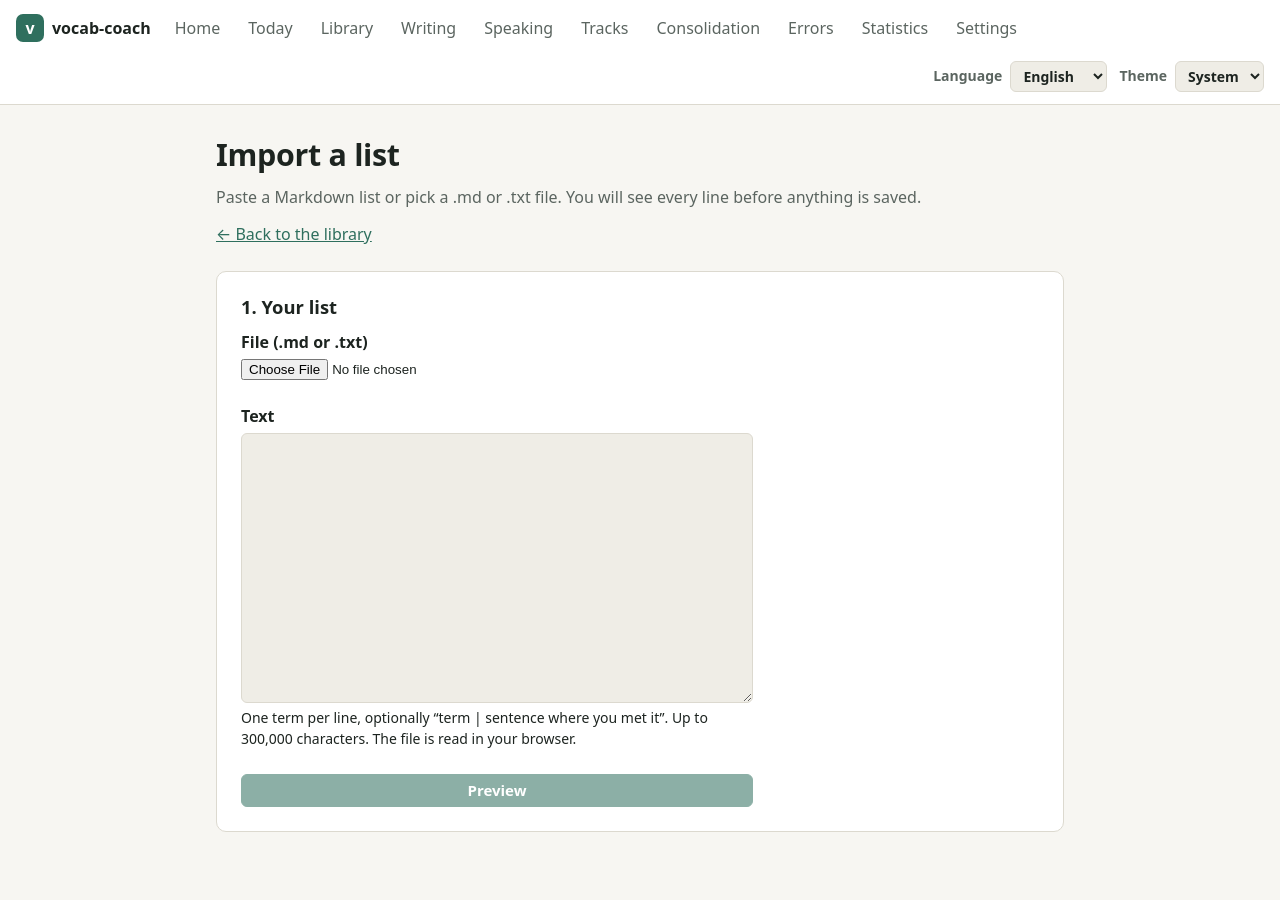
Test: import page › previews the text: header, counts, translated problems, ambiguous rows left out
Step 1. Type "- sampling frame" into the text box labelled "Text" → {"x": 497, "y": 568}, box [241,432,753,703]
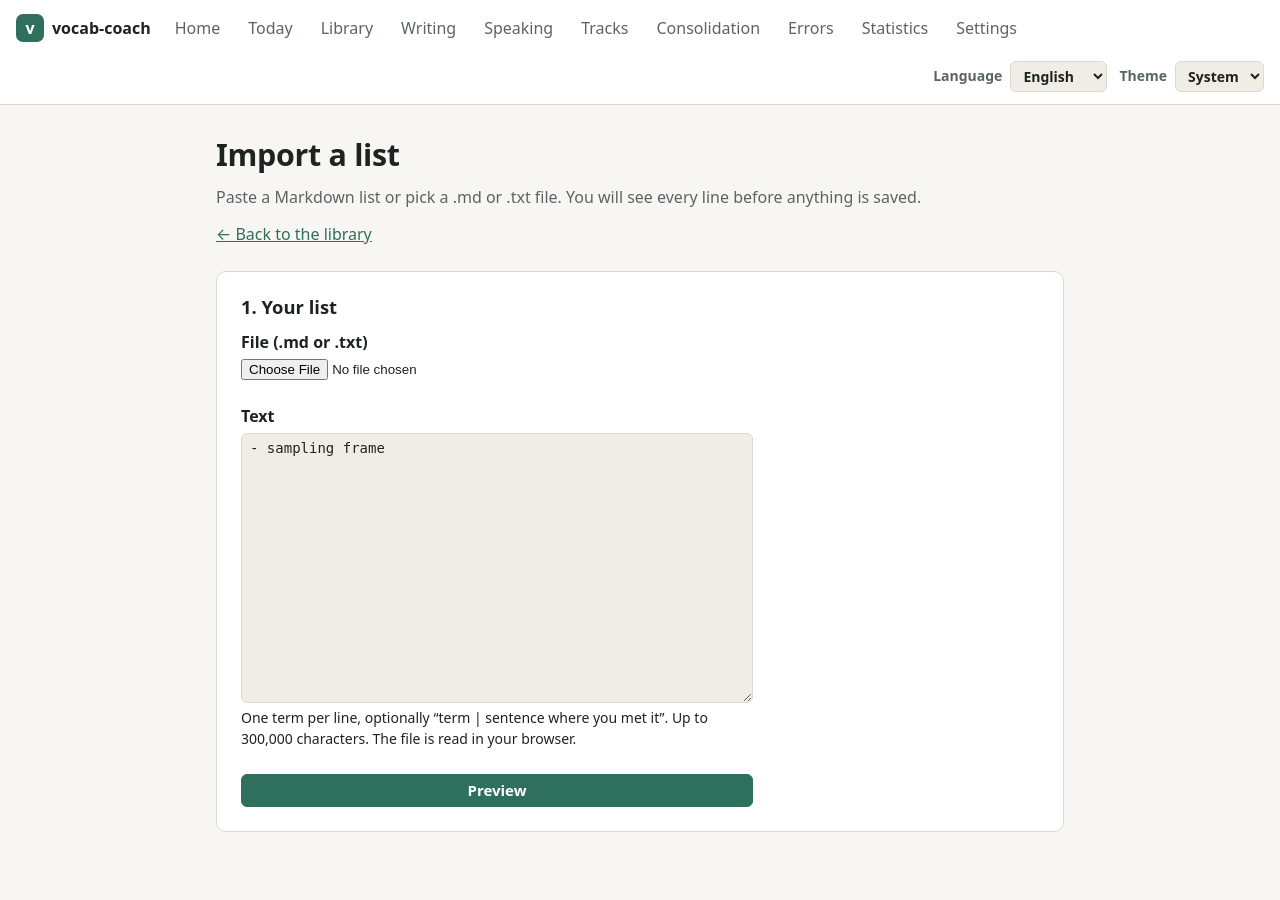
Step 2. Click the button "Preview" → {"x": 497, "y": 791}, box [241,774,753,808]
(page scrolled)
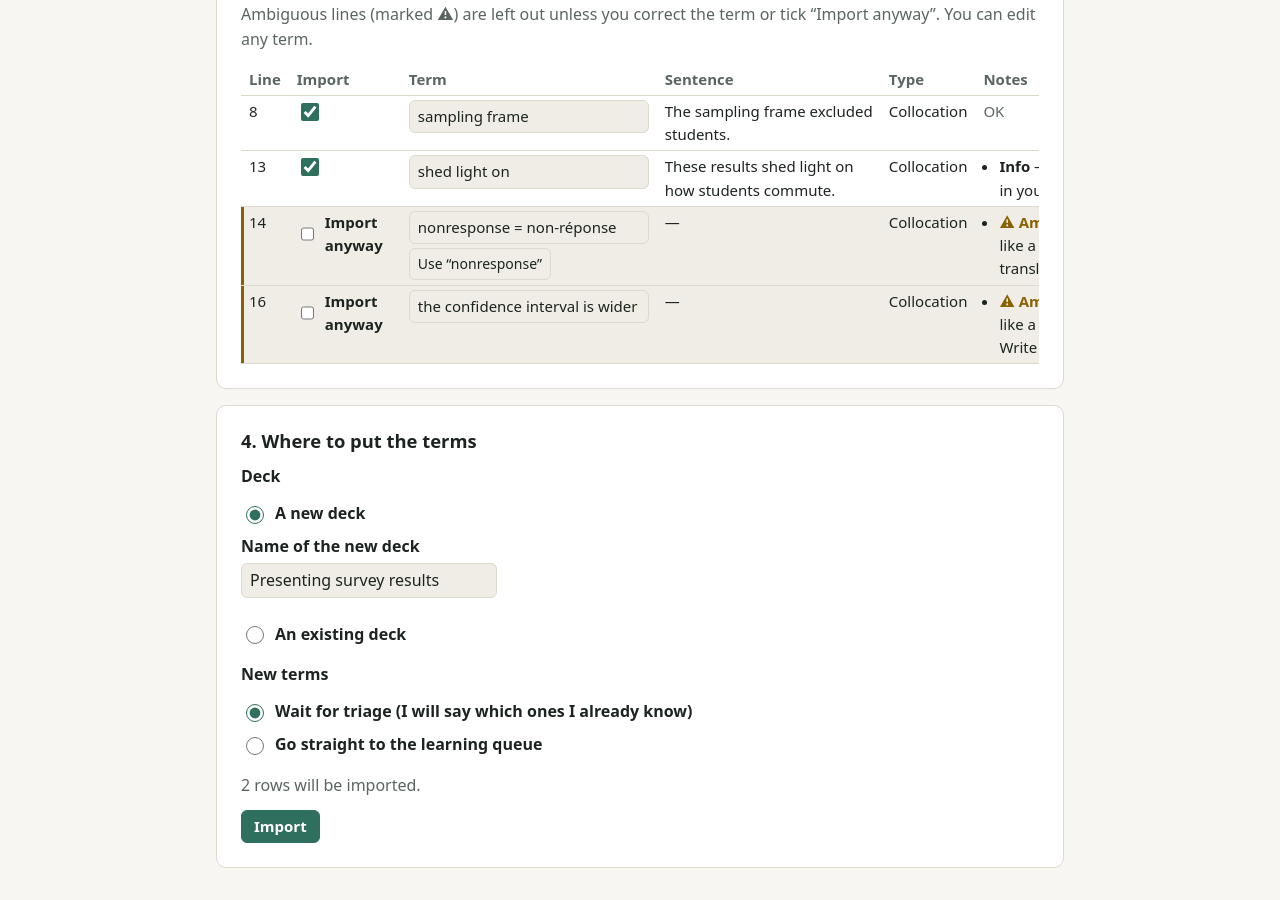
Check: the checkbox named "Import line 8" in the row of "The sampling frame excluded students." is checked, box [301,103,319,121]
Check: the number of checkboxes labelled "Import anyway" is 2, box [301,225,314,243]; [301,304,314,322]
Check: the checkbox labelled "Import anyway" next to "14" is not checked, box [301,225,314,243]
